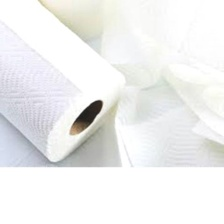tissue: (0, 0, 132, 165), (93, 0, 224, 166)
